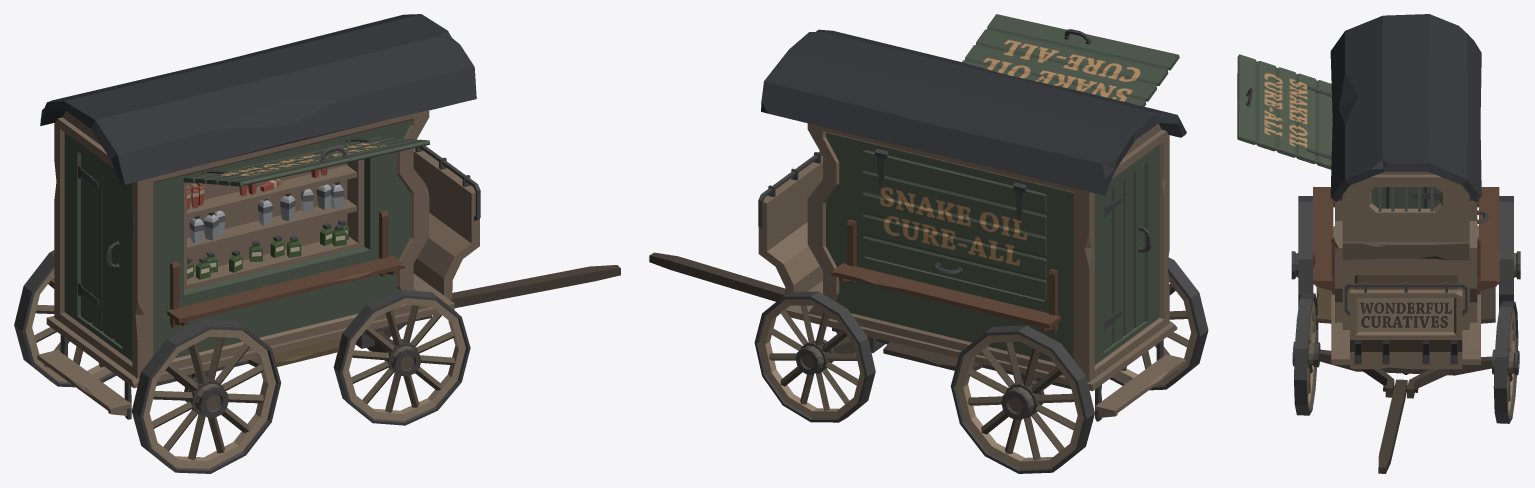
File: shop-cart.glb
3 views of the same model, side by side, from view 1: azimuth 30°, elevation 25°; view 2: azimuth 150°, elevation 25°; view 3: azimuth 270°, elevation 25° (orthographic). The views are drawn at different scales.
Parts seen in each view (by area): view 1: shop_cart; view 2: shop_cart; view 3: shop_cart.
Part boxes in pixels (left/top/right/bottom): shop_cart: left=14, top=14, right=620, bottom=473; shop_cart: left=649, top=14, right=1208, bottom=473; shop_cart: left=1237, top=14, right=1520, bottom=473.
Size of the model in its own units: 4.4 by 2.64 by 2.38.
Materials: 1 (1 with a texture image).
